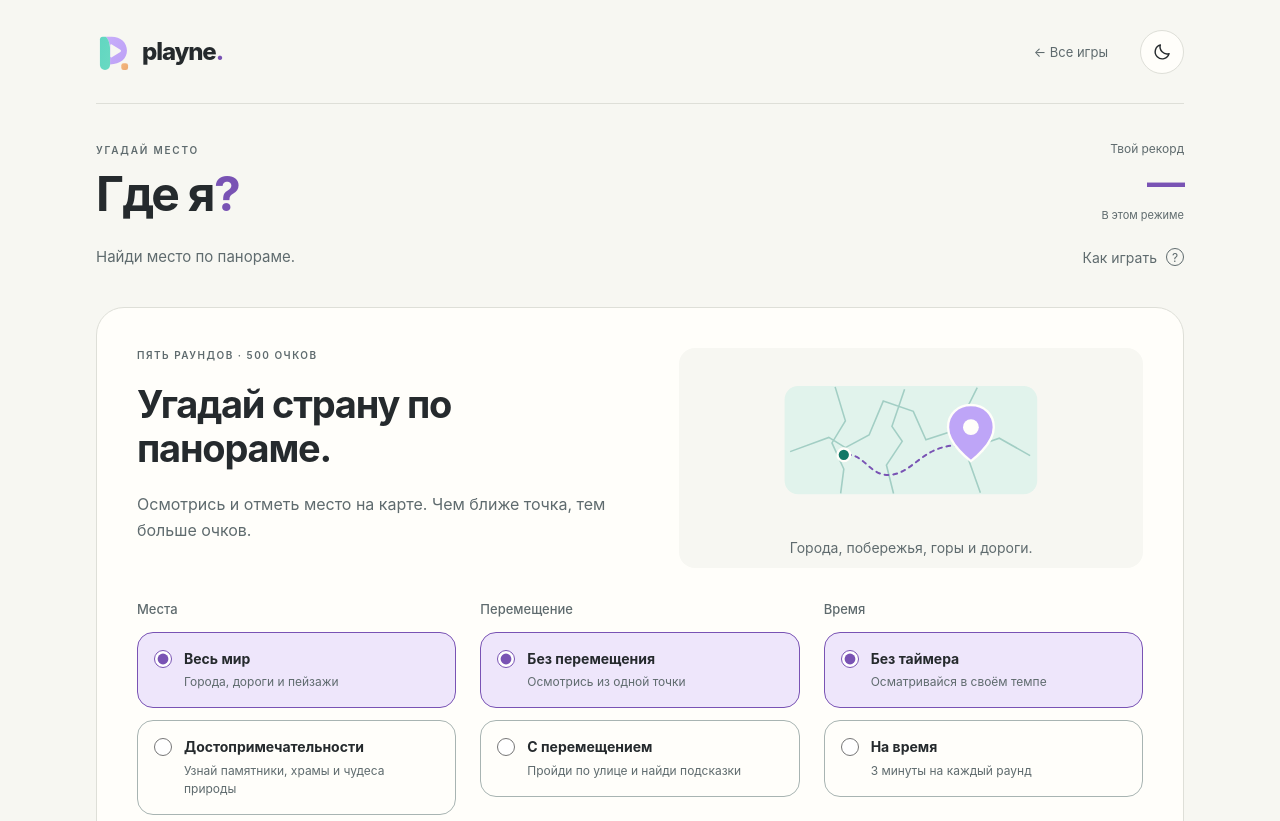
Test case: Geo shared mode choices › preserves independent collection, movement and time choices and suppresses movement in landmarks
Click the radio button labelled "На время 3 минуты на каждый раунд": [850, 747] box [841,738,859,756]
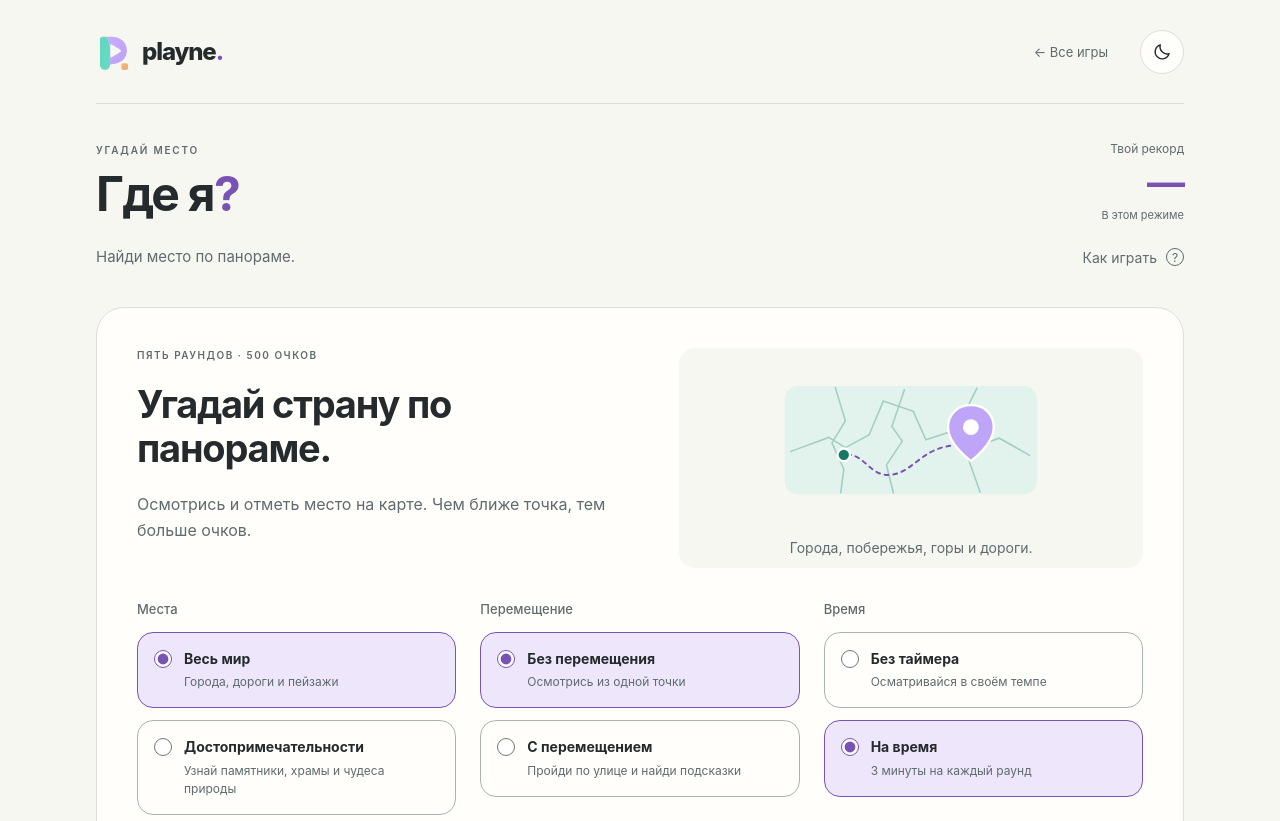
Click the radio button labelled "С перемещением Пройди по улице и найди подсказки": [506, 747] box [497,738,515,756]
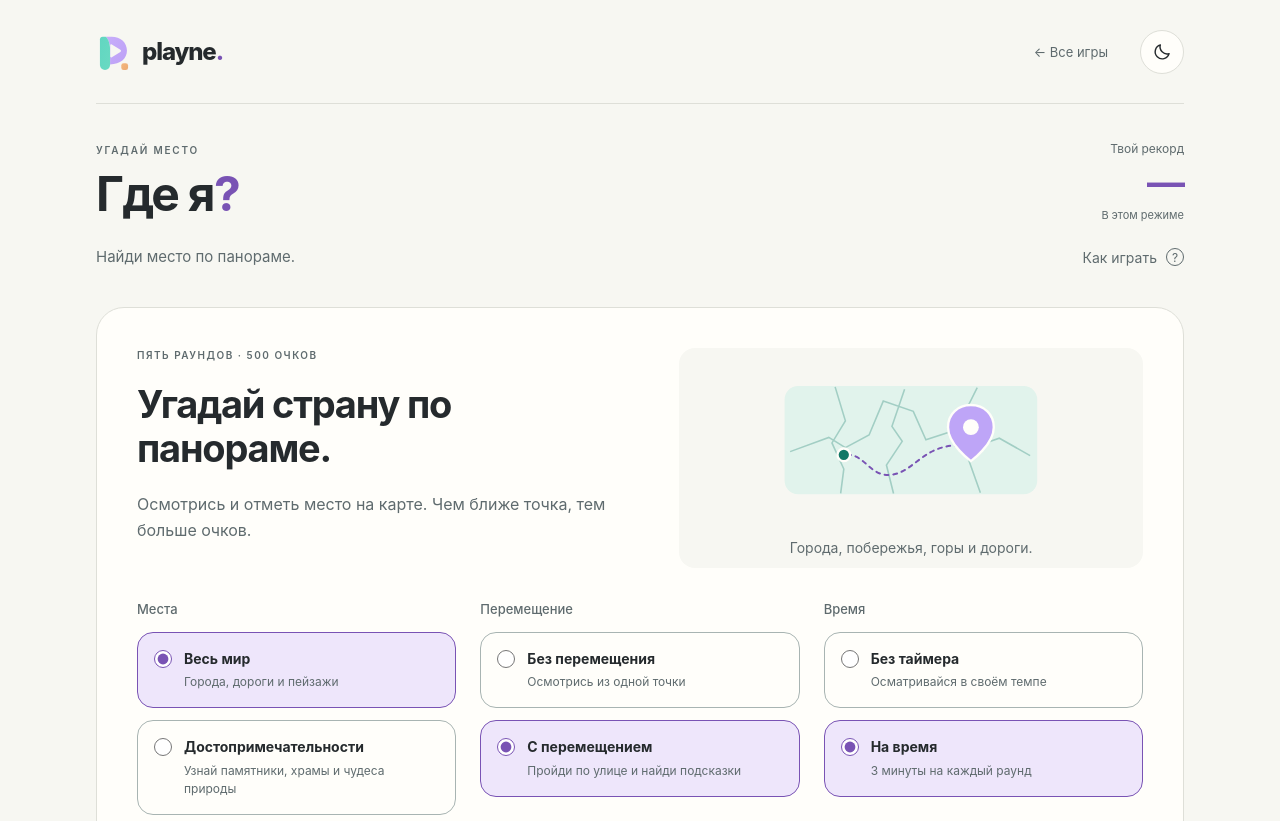
Expected: the radio button labelled "На время 3 минуты на каждый раунд" is checked, [841,738,859,756]
Click the 4th radio button: [163, 747] box [154,738,172,756]
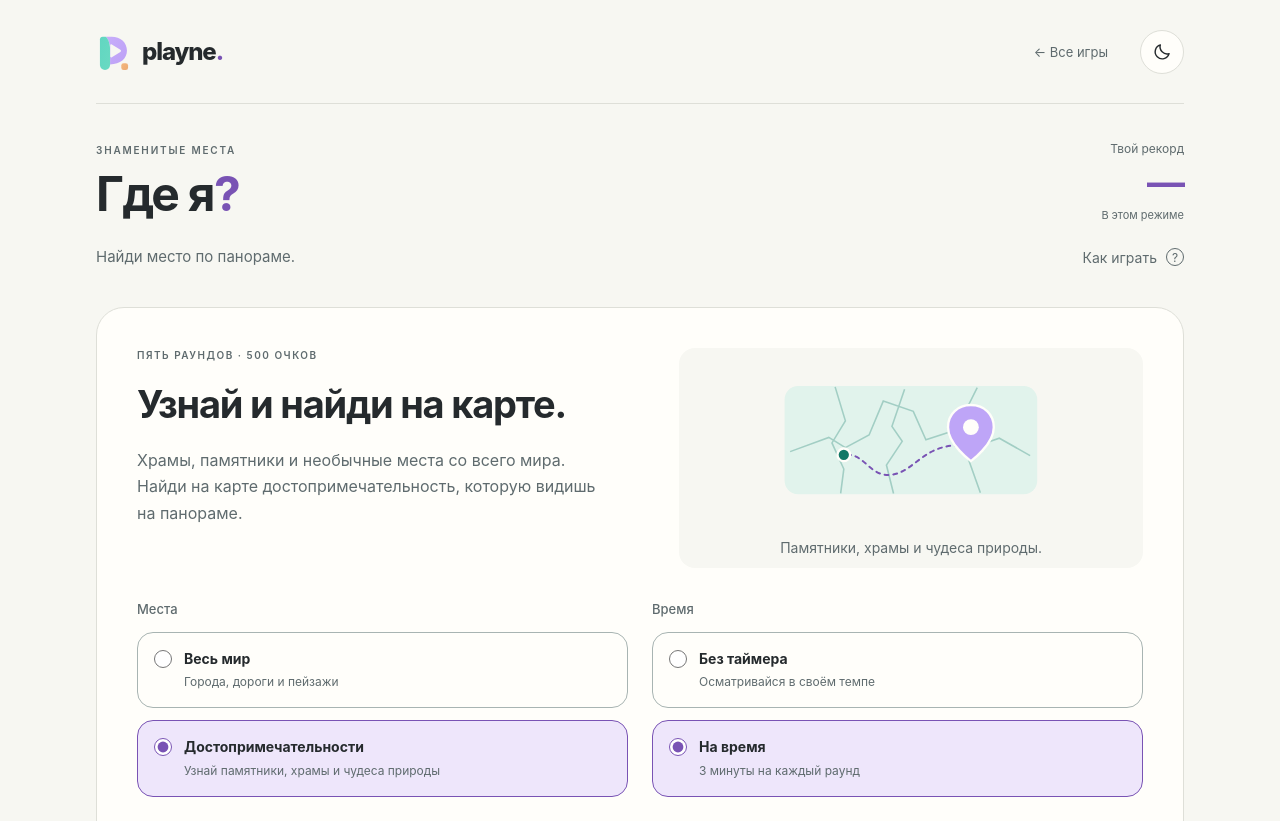
Expected: the radio button labelled "На время 3 минуты на каждый раунд" is checked, [669,738,687,756]
Expected: the text "Узнай и найди на карте." is shown, [137,381,566,427]
Click the radio button labelled "Весь мир Города, дороги и пейзажи": [163, 659] box [154,650,172,668]
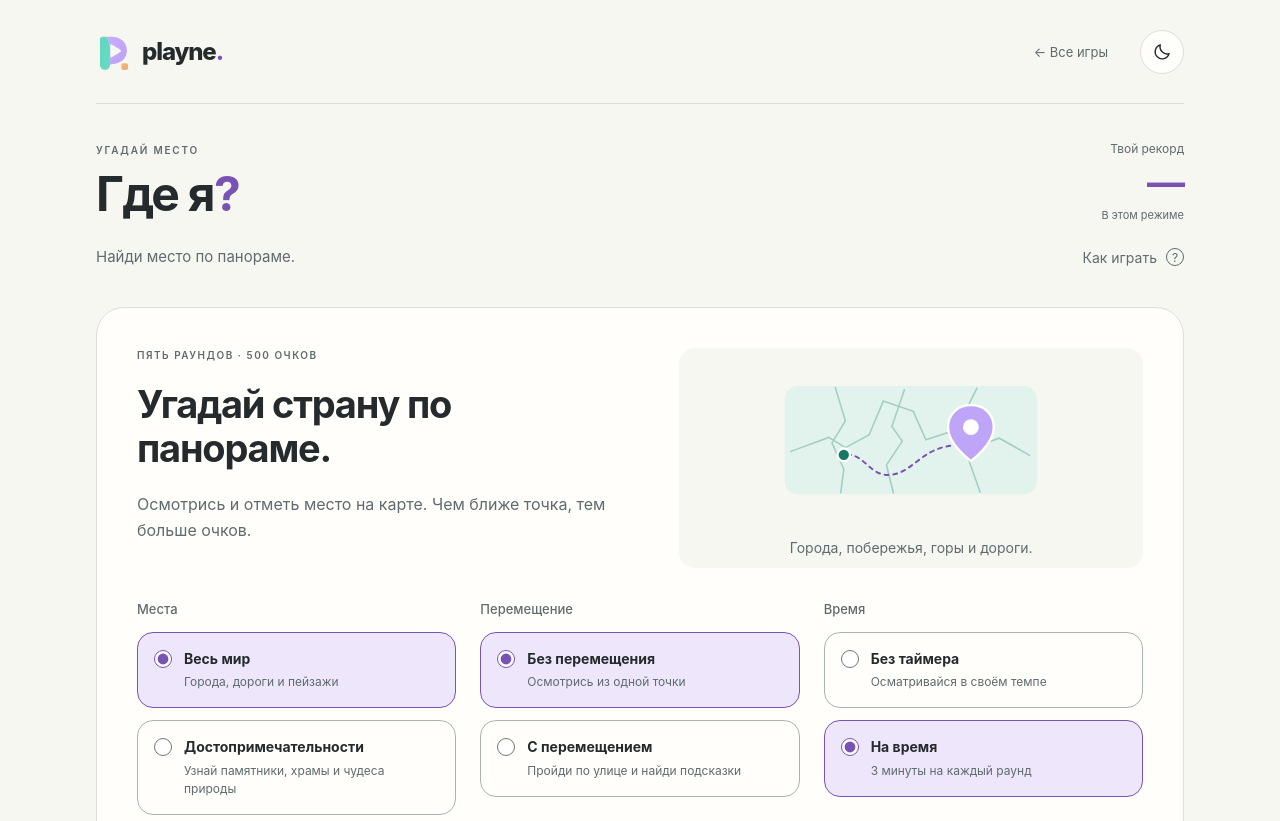
Expected: the radio button labelled "На время 3 минуты на каждый раунд" is checked, [841,738,859,756]
Expected: the radio button labelled "Без перемещения Осмотрись из одной точки" is checked, [497,650,515,668]
